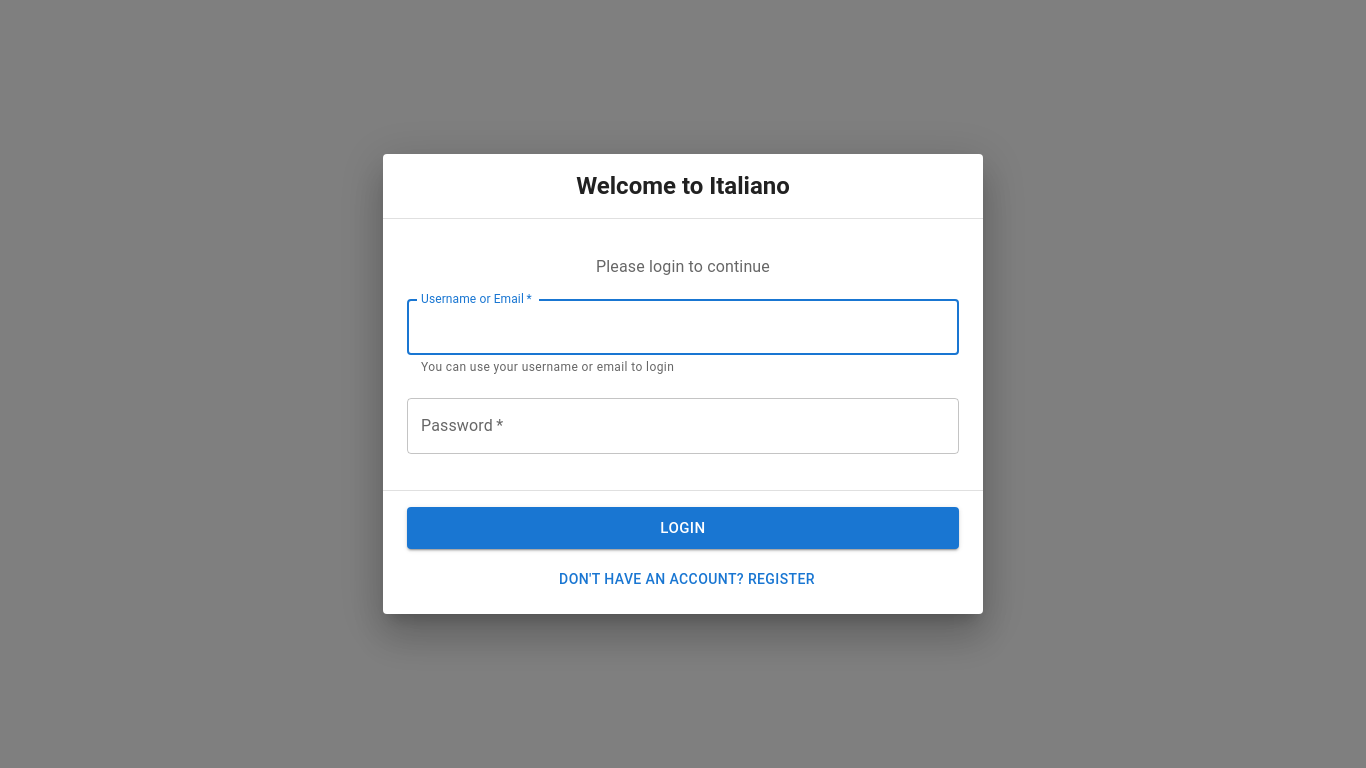
LoginModal › Rendering - Register Mode › renders register title after toggling
Click the button "Don't have an account? Register" at {"x": 687, "y": 580}, box 411,561 -> 963,598
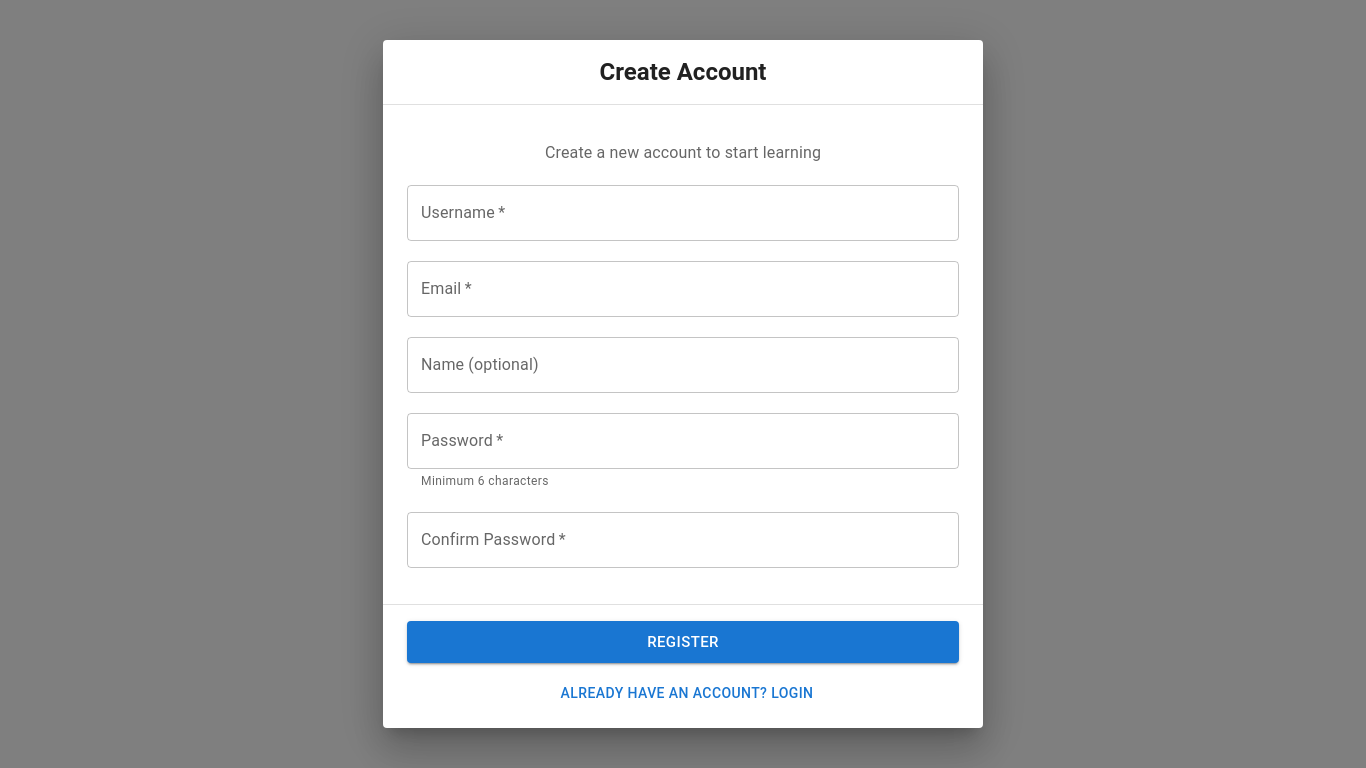
Now the heading "Create Account" is shown, box 600,58 -> 766,86
